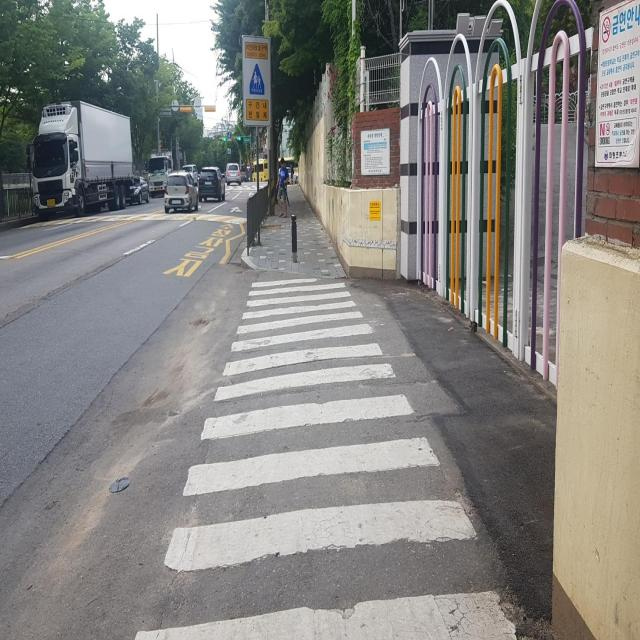횡단보도: (131, 273, 520, 640)
